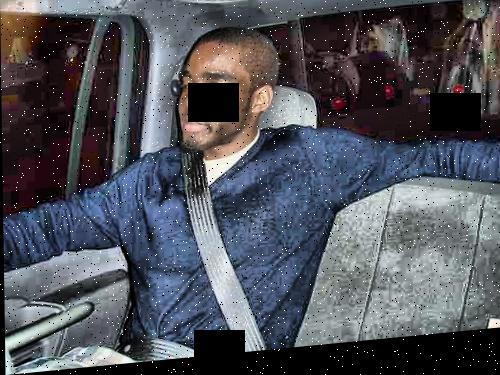seatbelt: (178, 100, 259, 350)
